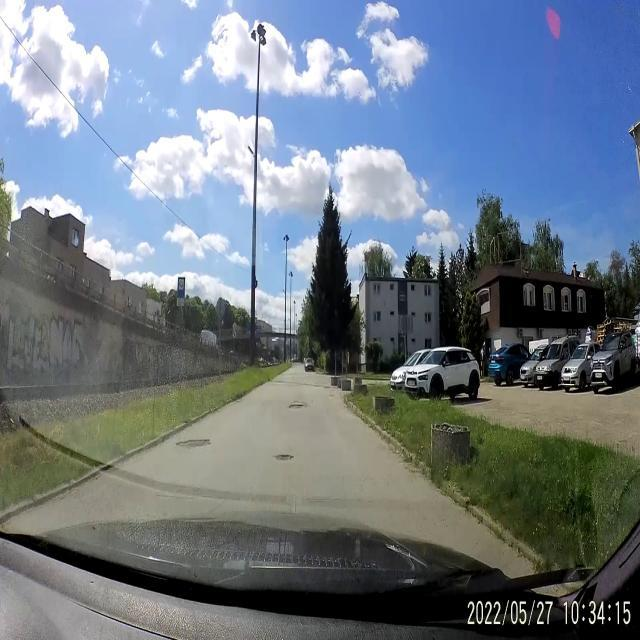Pothole: (178, 434, 214, 454), (286, 402, 308, 414), (274, 449, 292, 462)
